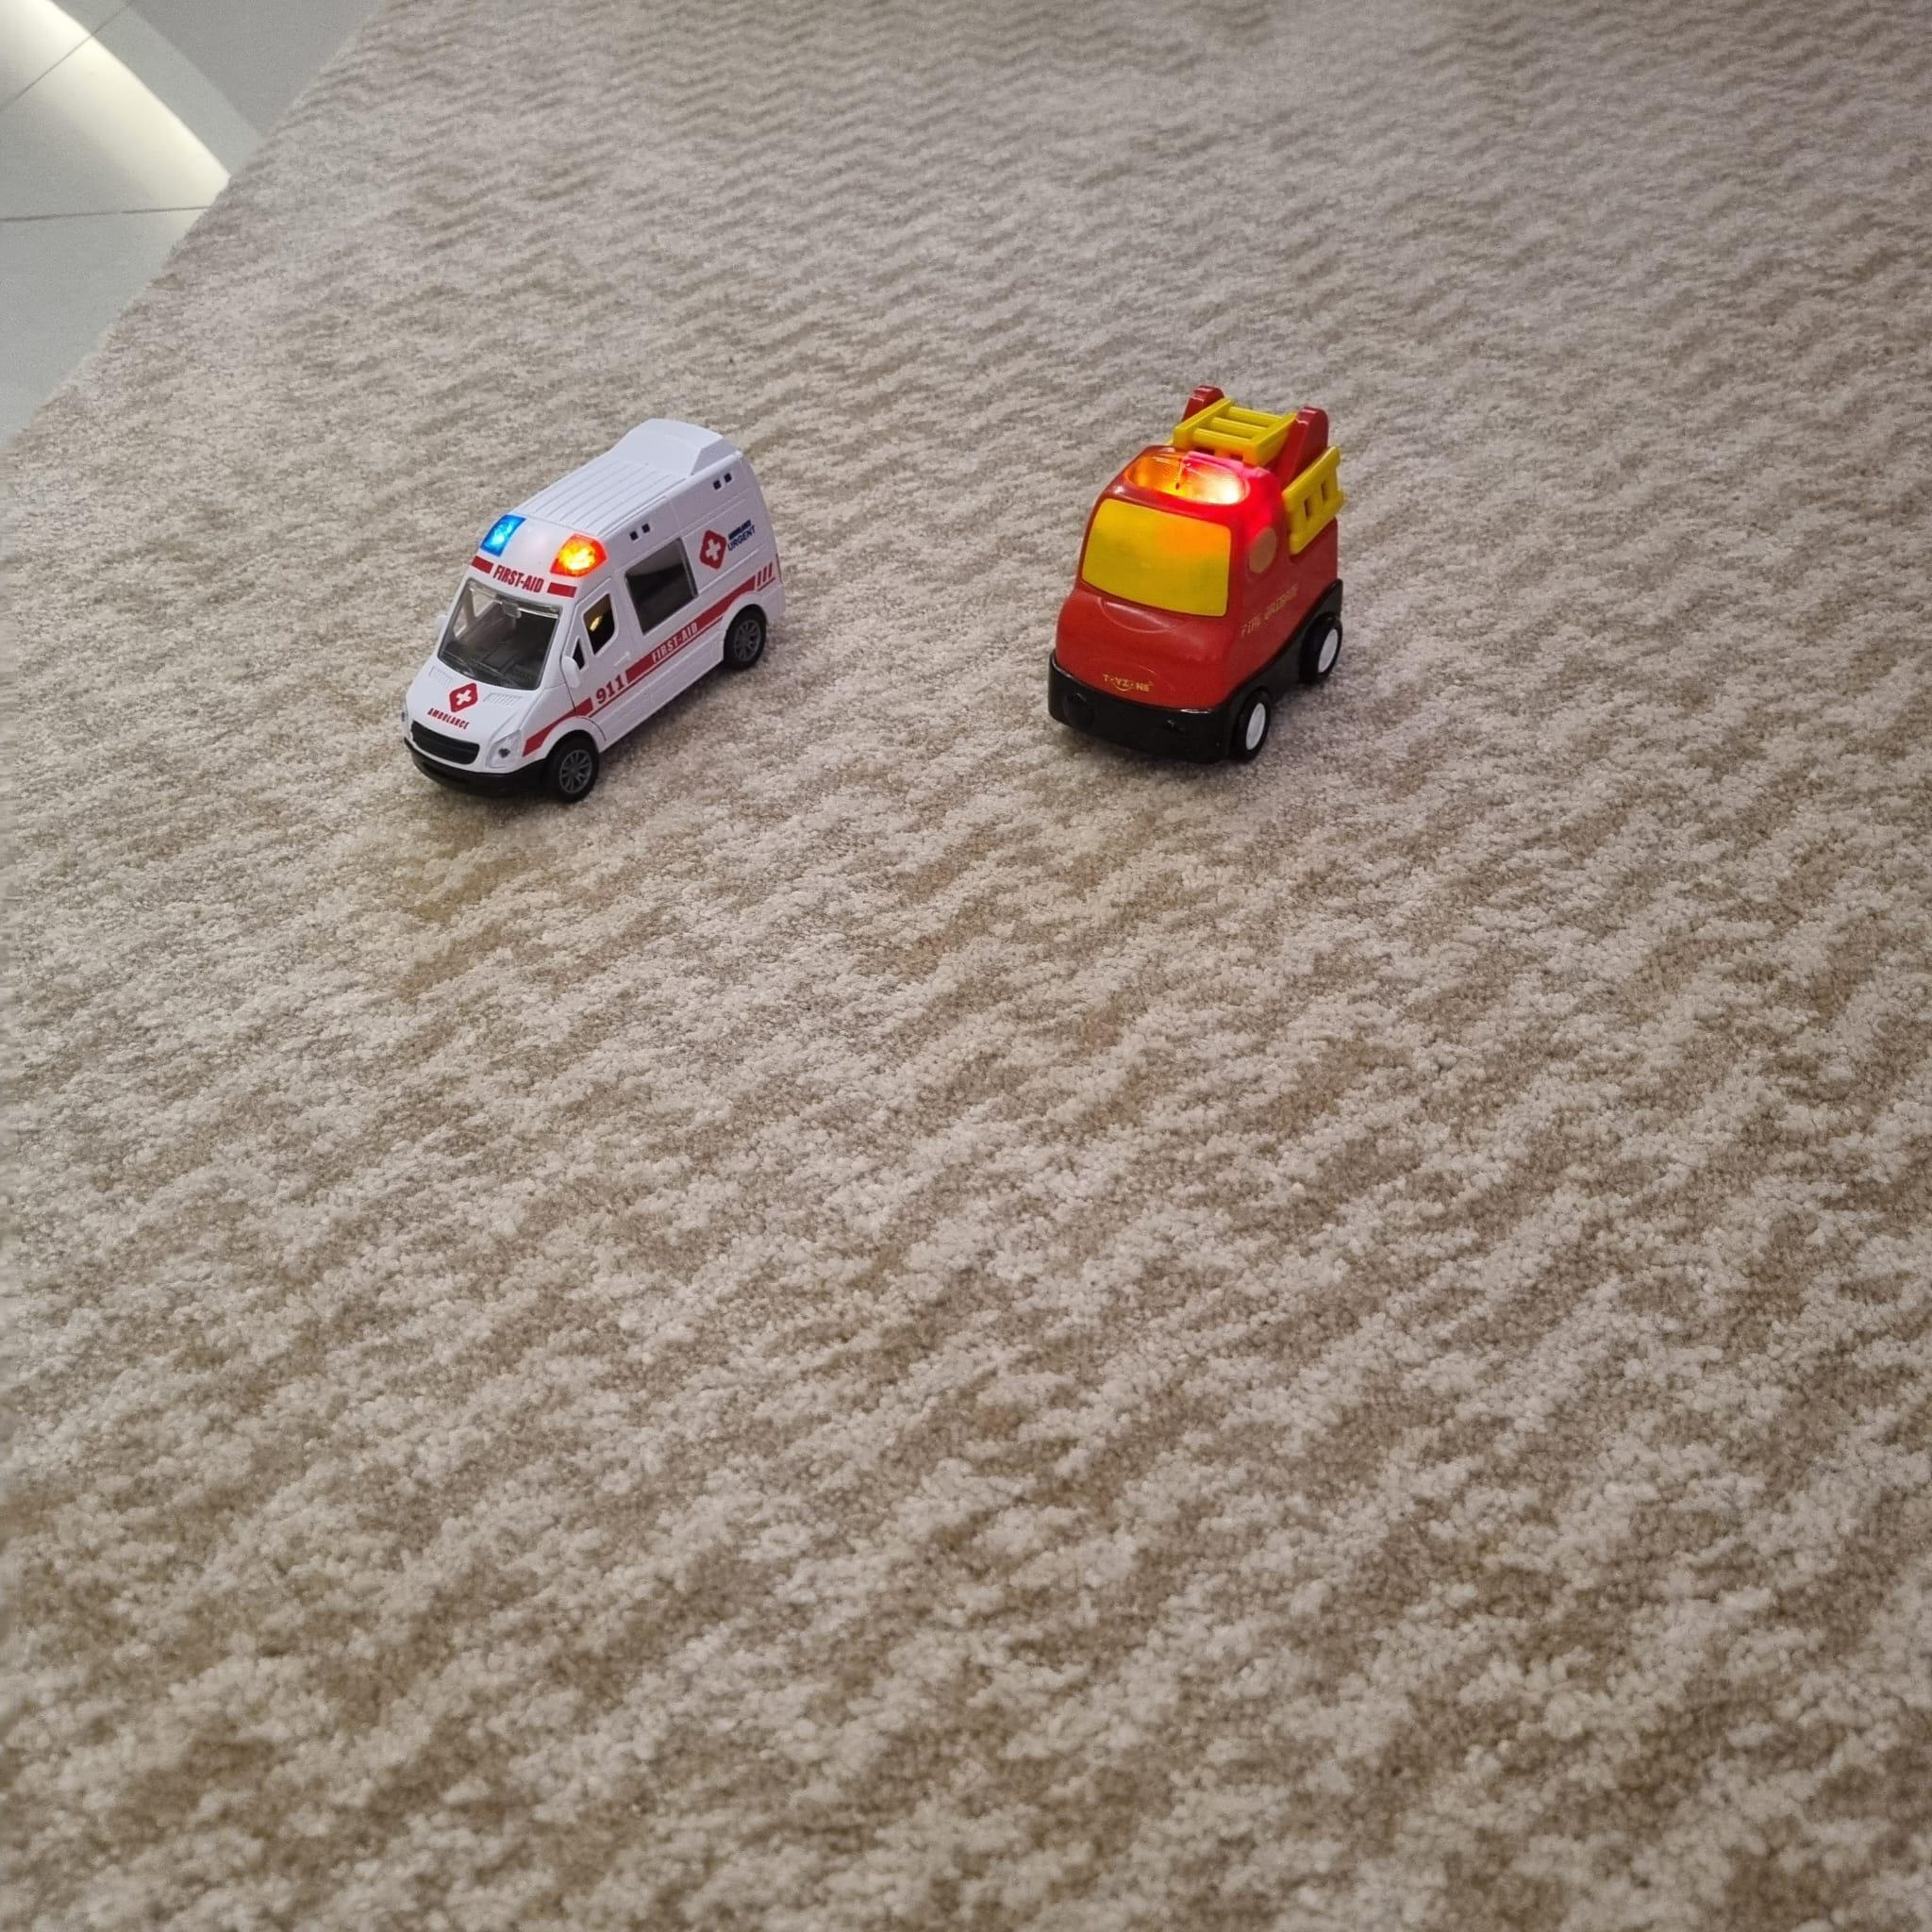ambulance_on: (395, 416, 784, 807)
firetruck_on: (1049, 380, 1343, 770)
